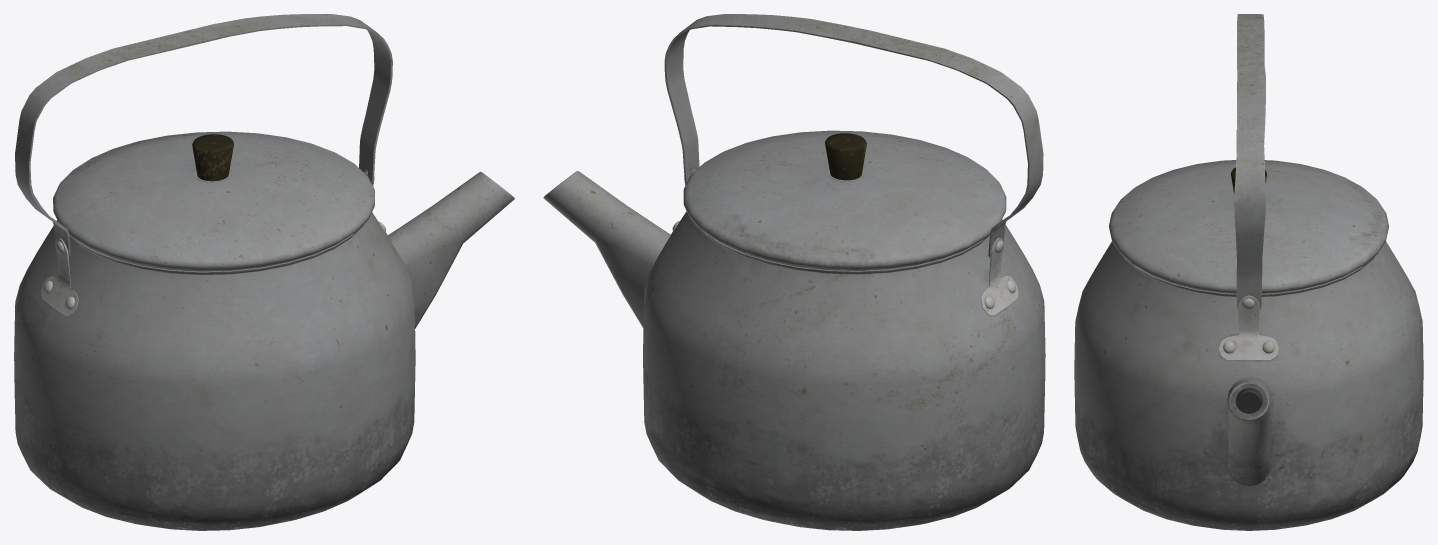
The model's file is Old Soviet Army Teapot.fbx.
The picture shows the model from 3 angles, left to right: view 1: azimuth 30°, elevation 25°; view 2: azimuth 150°, elevation 25°; view 3: azimuth 270°, elevation 25°; orthographic projection. The views are drawn at different scales.
Parts seen in each view (by area): view 1: Object_2; view 2: Object_2; view 3: Object_2.
Part boxes in pixels (box(x1,y1,x2,y2)): Object_2: box(14, 14, 514, 530); Object_2: box(543, 14, 1045, 530); Object_2: box(1074, 14, 1423, 530).
Size of the model in its own units: 37.7 by 33.23 by 25.59.
